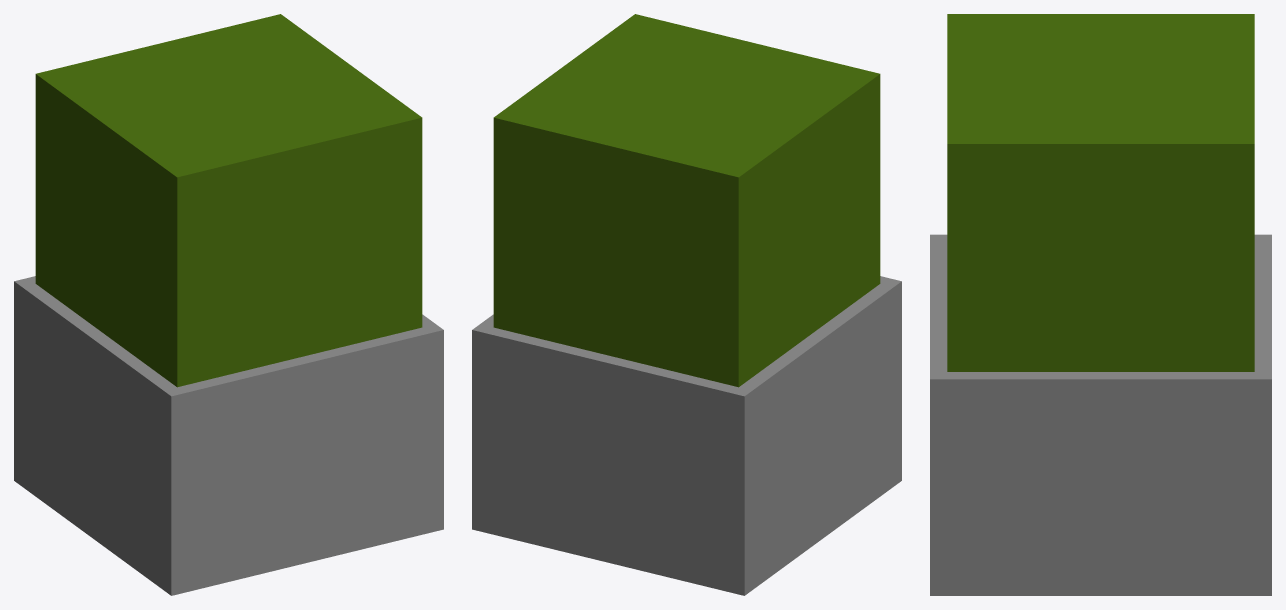
File: adorn plant8.FBX
3 views of the same model, side by side, from view 1: azimuth 30°, elevation 25°; view 2: azimuth 150°, elevation 25°; view 3: azimuth 270°, elevation 25° (orthographic). The views are drawn at different scales.
Visible parts, largest first — view 1: adorn plant8; view 2: adorn plant8; view 3: adorn plant8.
Boxes of the visible parts, bbox=[...] form: adorn plant8: bbox=[14, 14, 443, 595]; adorn plant8: bbox=[472, 14, 901, 595]; adorn plant8: bbox=[930, 14, 1271, 595].
Size of the model in its own units: 1 by 1.44 by 1.
